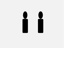human: (20, 9, 29, 34), (36, 9, 44, 34)
